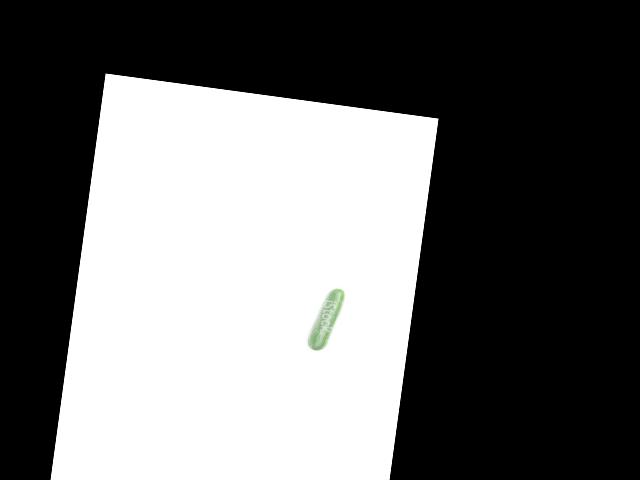cucumber: (306, 285, 345, 354)
